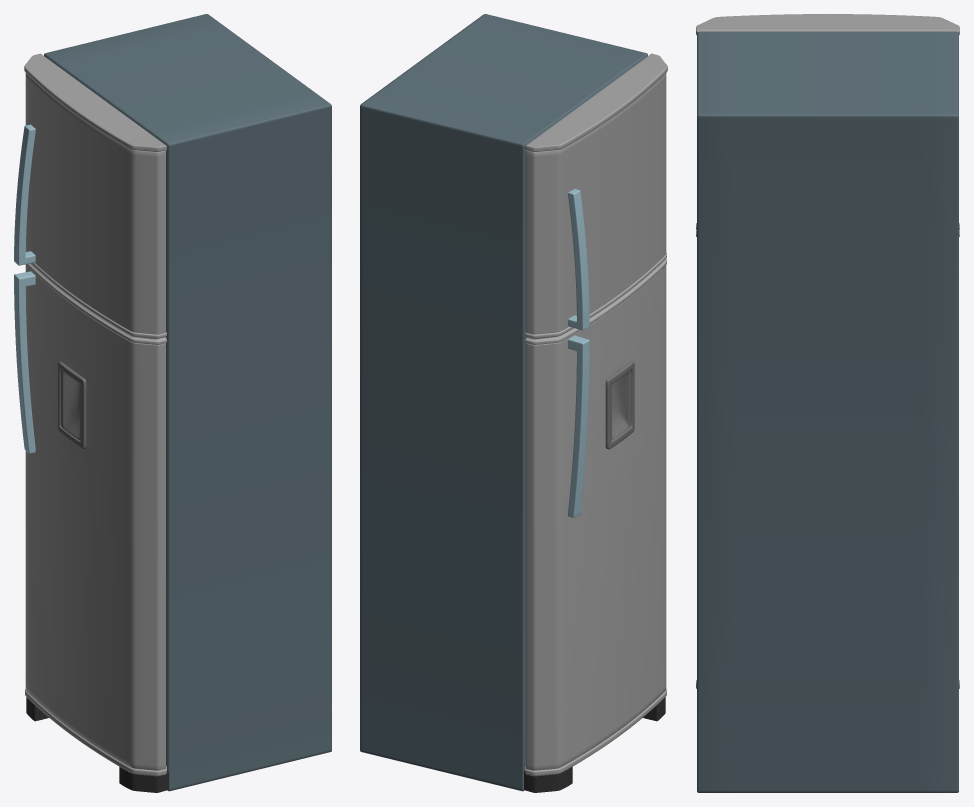
The model's file is Fridge.fbx.
3 renders of one model, left to right at view 1: azimuth 30°, elevation 25°; view 2: azimuth 150°, elevation 25°; view 3: azimuth 270°, elevation 25°, orthographic. The views are drawn at different scales.
Parts seen in each view (by area): view 1: Fridge; view 2: Fridge; view 3: Fridge.
Part boxes in pixels (<box>): Fridge: <box>14,14,331,792</box>; Fridge: <box>360,14,667,792</box>; Fridge: <box>696,14,959,792</box>.
Size of the model in its own units: 73.05 by 215 by 76.
Materials: 1 (1 with a texture image).
